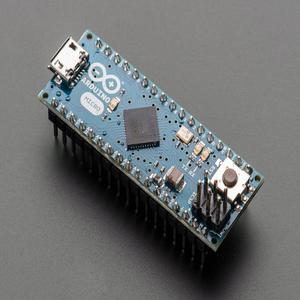duino: (40, 17, 264, 272)
